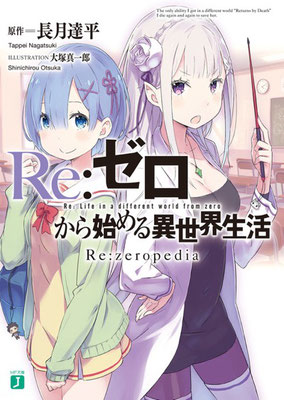rem: (1, 43, 128, 400)
